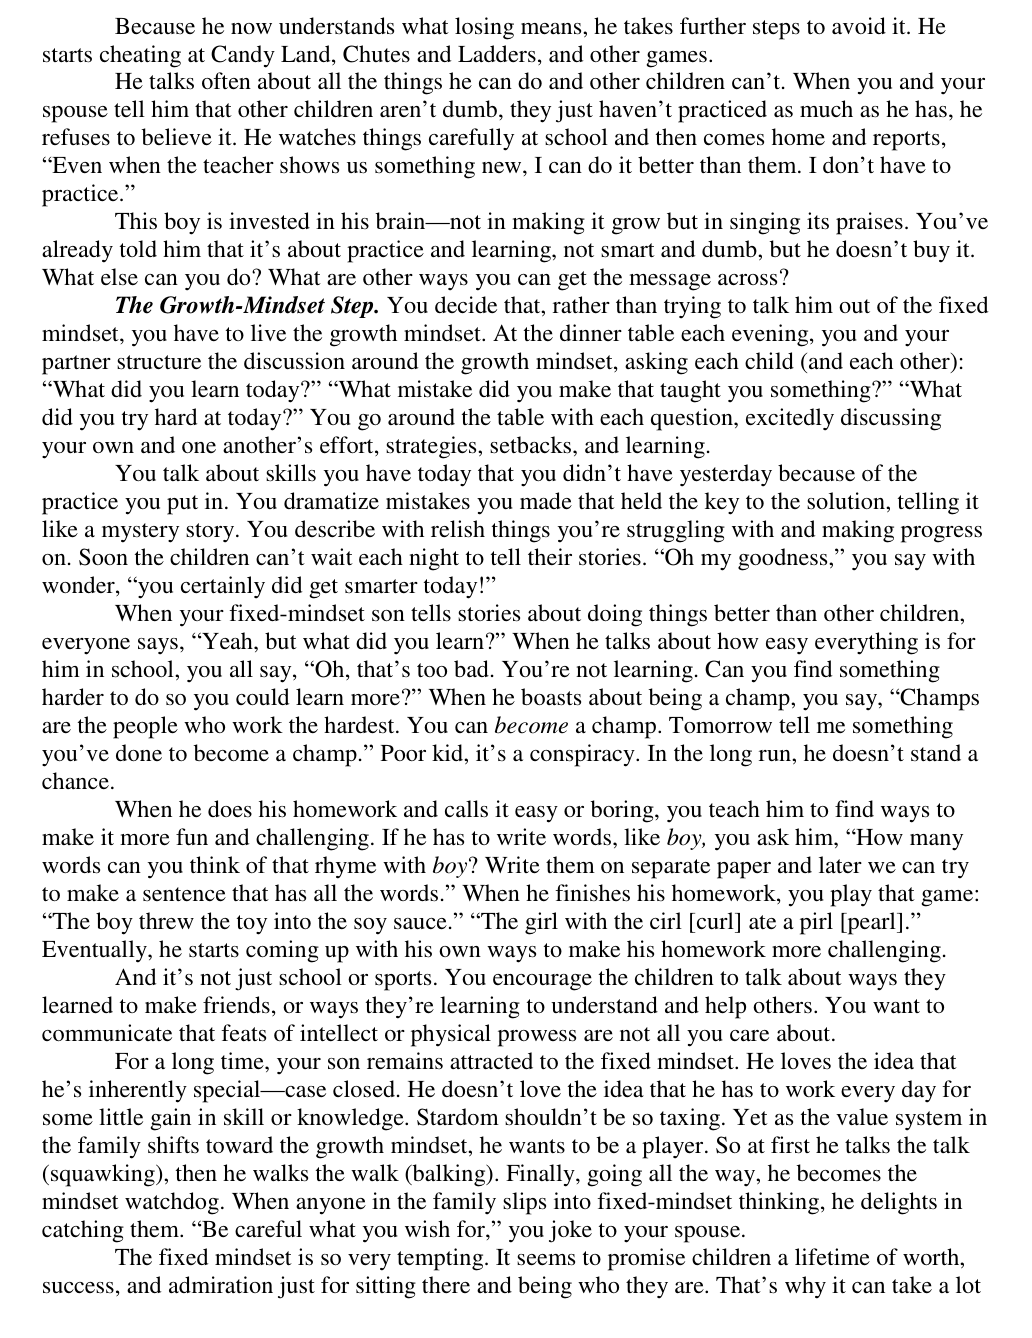latin: (35, 14, 995, 284), (28, 1053, 991, 1312), (34, 794, 982, 1045), (27, 602, 986, 796), (29, 285, 993, 456), (37, 459, 984, 602)
